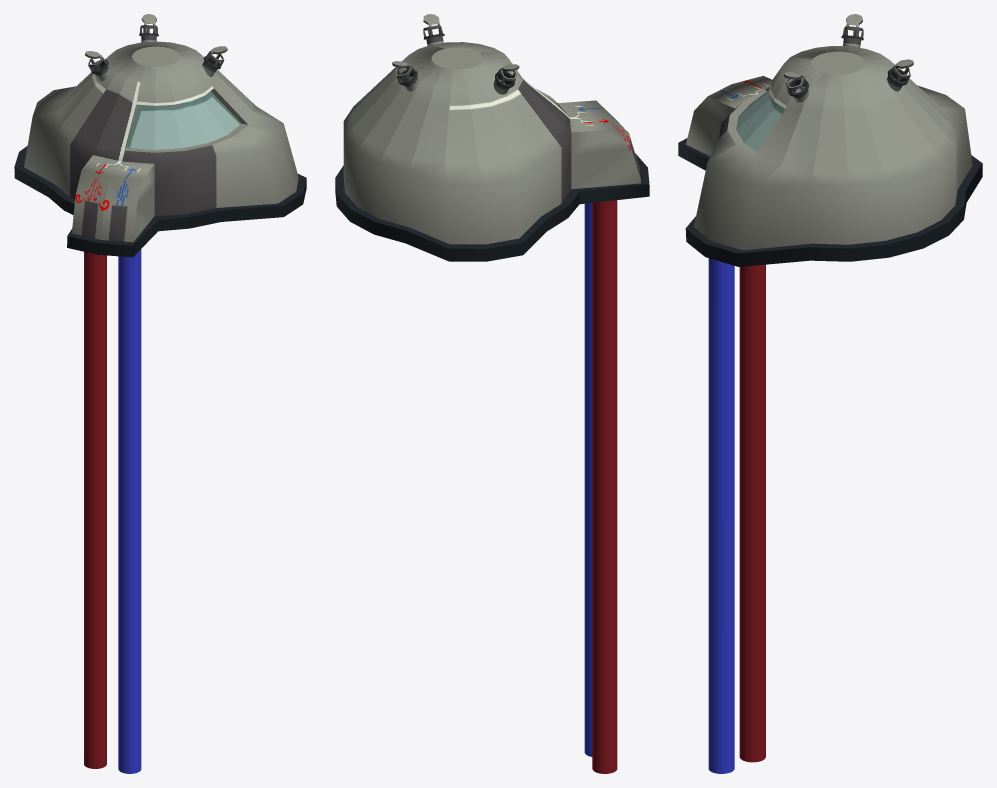
File: water.fbx
The picture shows the model from 3 angles, left to right: view 1: azimuth 30°, elevation 25°; view 2: azimuth 150°, elevation 25°; view 3: azimuth 270°, elevation 25°; orthographic projection. The views are drawn at different scales.
Visible parts, largest first — view 1: builden1:polySurface3, builden1:polySurface1, builden1:polySurface2; view 2: builden1:polySurface3, builden1:polySurface2, builden1:polySurface1; view 3: builden1:polySurface3, builden1:polySurface1, builden1:polySurface2, resourbuildes_and:resourbuildes_and:pCylinder161, resourbuildes_and:resourbuildes_and:pCylinder160, resourbuildes_and:resourbuildes_and:pCylinder159.
Boxes of the visible parts, bbox=[...] form: builden1:polySurface3: bbox=[14, 41, 306, 257]; builden1:polySurface1: bbox=[118, 249, 141, 773]; builden1:polySurface2: bbox=[84, 251, 106, 768]; builden1:polySurface3: bbox=[335, 42, 649, 261]; builden1:polySurface2: bbox=[592, 200, 617, 773]; builden1:polySurface1: bbox=[584, 203, 592, 756]; builden1:polySurface3: bbox=[678, 46, 982, 266]; builden1:polySurface1: bbox=[708, 258, 734, 773]; builden1:polySurface2: bbox=[739, 264, 765, 762]; resourbuildes_and:resourbuildes_and:pCylinder161: bbox=[886, 59, 913, 91]; resourbuildes_and:resourbuildes_and:pCylinder160: bbox=[841, 14, 863, 47]; resourbuildes_and:resourbuildes_and:pCylinder159: bbox=[784, 72, 808, 102].
Size of the model in its own units: 46.24 by 123 by 44.61.
